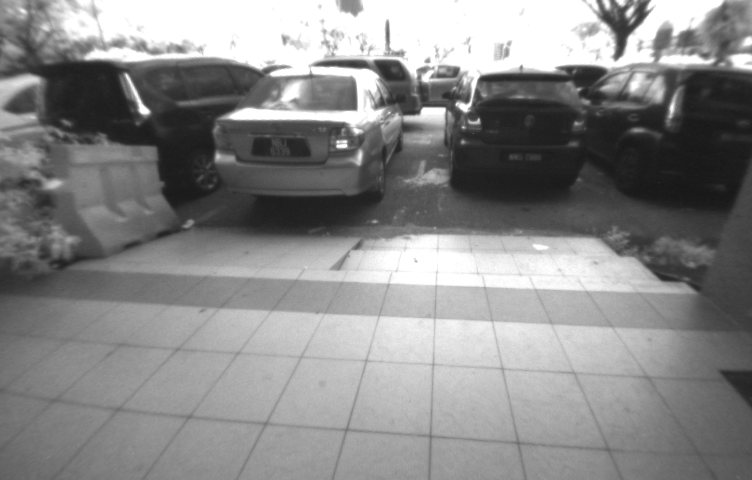down_steps: (338, 208, 690, 311)
mixed_gradient: (265, 218, 390, 300)
